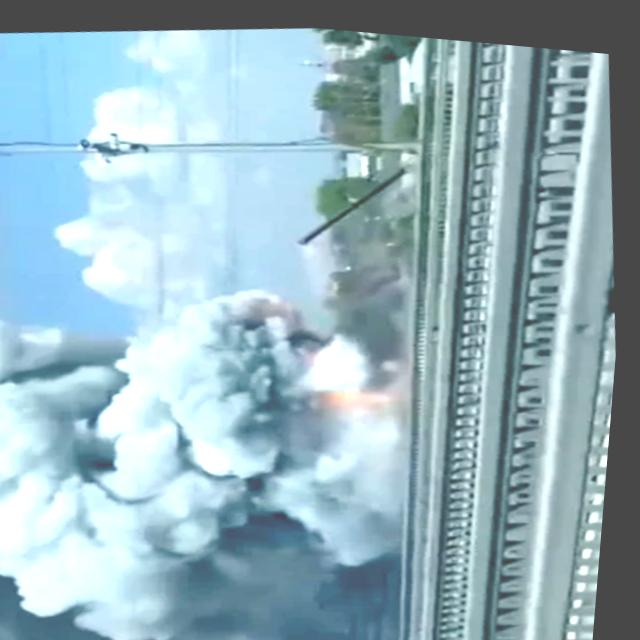Smoke: (0, 249, 444, 640)
